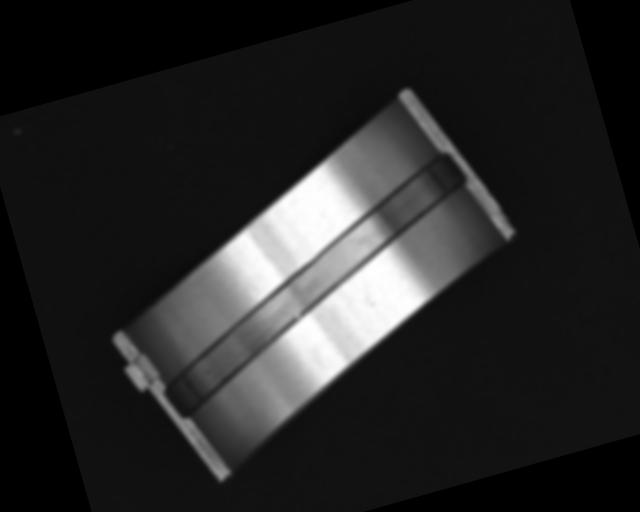gap: (121, 146, 508, 420)
